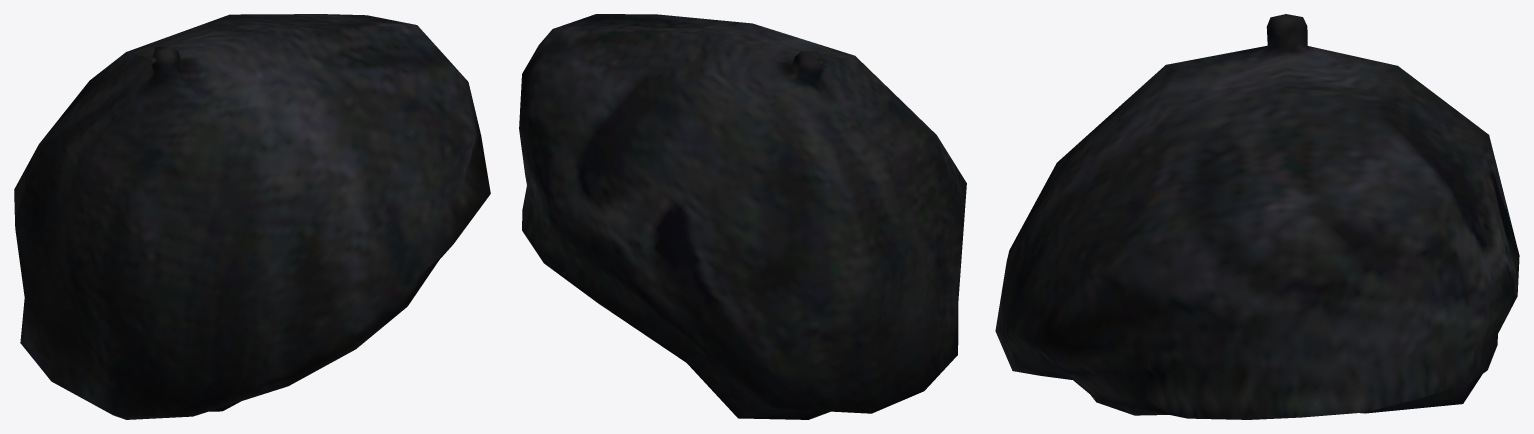
File: hat_0450045.FBX
The picture shows the model from 3 angles, left to right: view 1: azimuth 30°, elevation 25°; view 2: azimuth 150°, elevation 25°; view 3: azimuth 270°, elevation 25°; orthographic projection. The views are drawn at different scales.
Visible parts, largest first — view 1: hat_0450045; view 2: hat_0450045; view 3: hat_0450045.
Boxes of the visible parts, x1,y1,x2,y2 form: hat_0450045: (14,14,490,419); hat_0450045: (519,14,966,419); hat_0450045: (995,14,1519,419).
Bounding box in the file's own units: 26.4 × 22.03 × 24.9.
